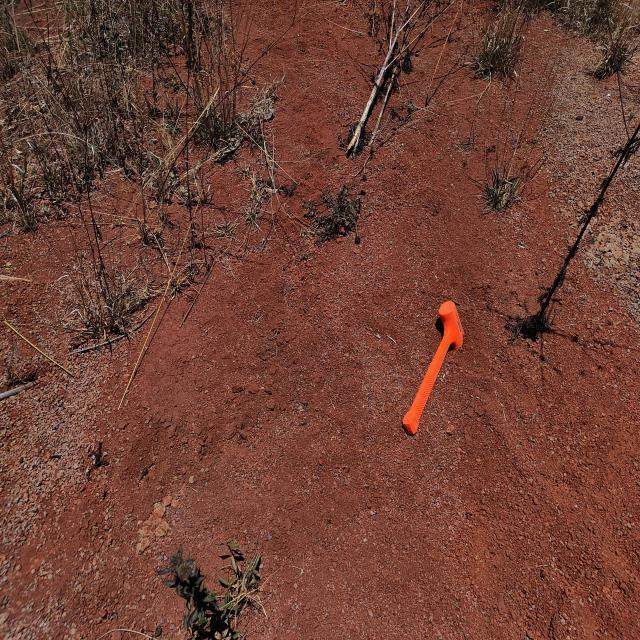Orange_hammer: (401, 300, 464, 436)
